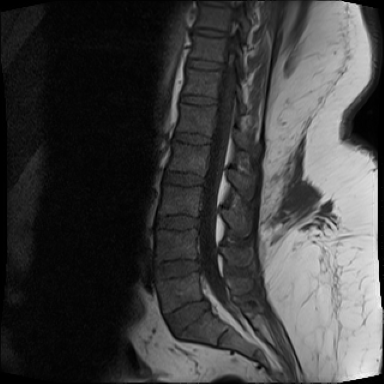Lumbar Disc Bulge (LDB): (158, 292, 215, 341), (149, 249, 205, 285), (156, 167, 211, 190), (153, 210, 202, 235)
Normal IVD: (166, 127, 216, 151), (172, 90, 220, 113), (173, 56, 224, 74), (184, 25, 227, 43)
